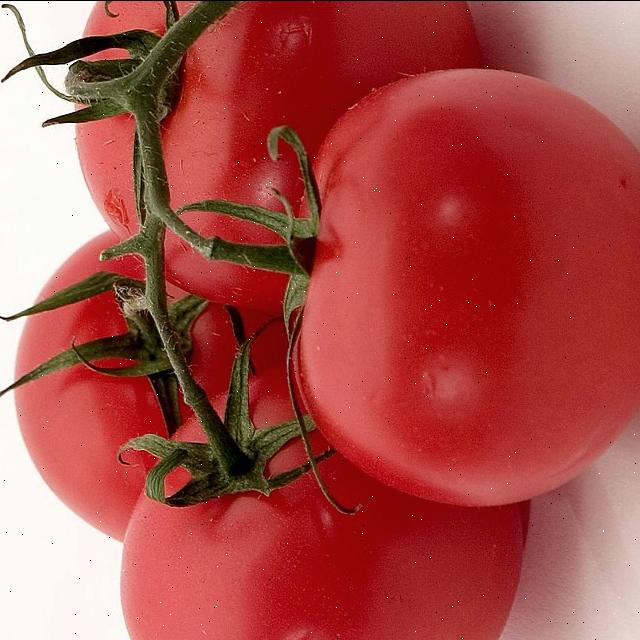tomato: (33, 0, 532, 310), (300, 58, 640, 489), (90, 382, 609, 640), (0, 224, 299, 597)
